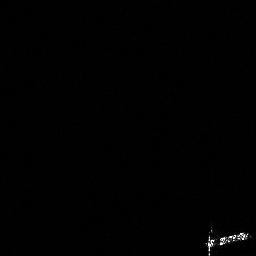ship: (202, 227, 252, 256)
